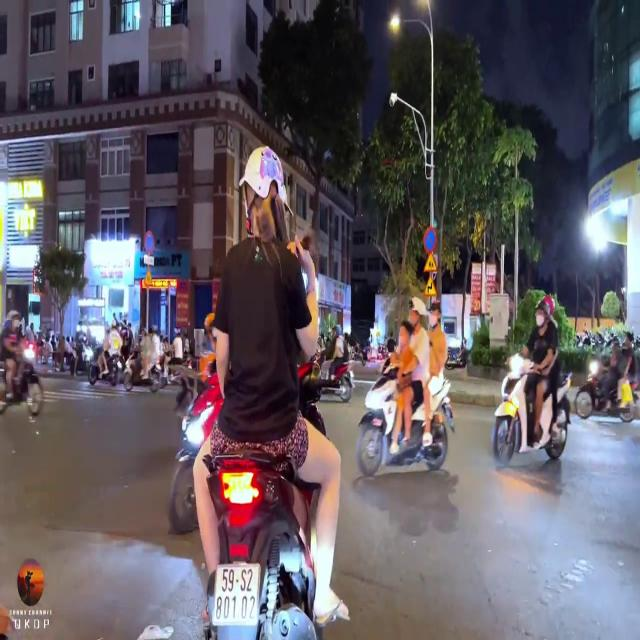bien_trang: (211, 562, 263, 622)
